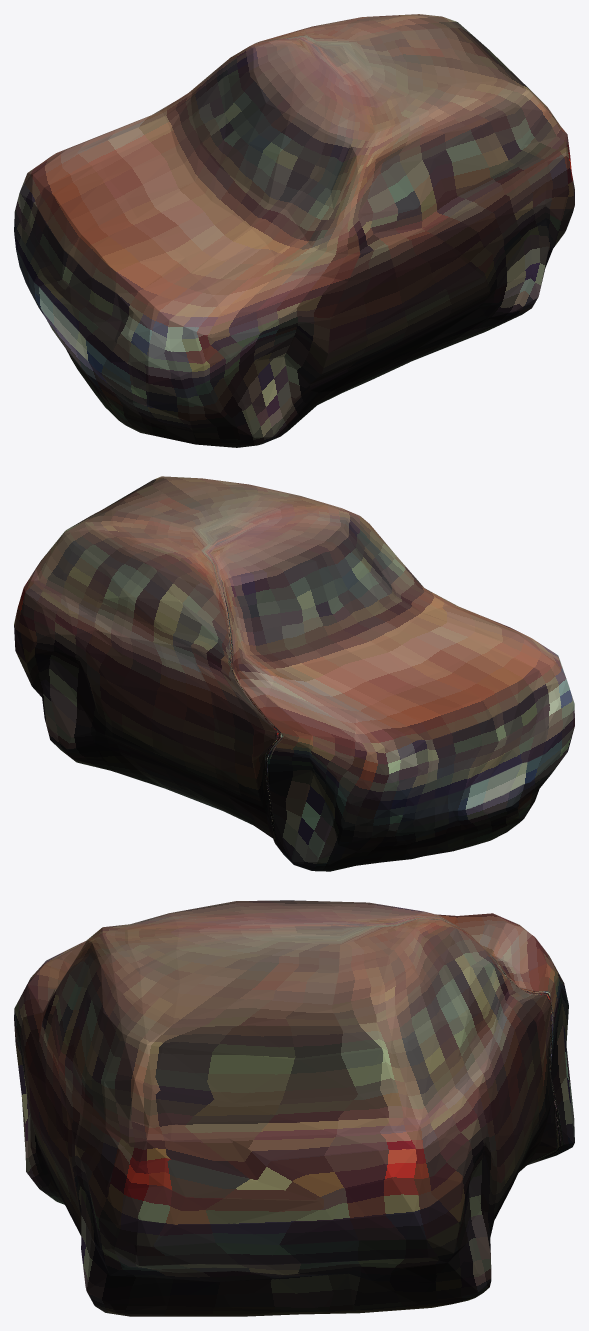
Rendered from video3_36.obj.
3 views of the same model, one above another, from view 1: azimuth 30°, elevation 25°; view 2: azimuth 150°, elevation 25°; view 3: azimuth 270°, elevation 25° (orthographic). The views are drawn at different scales.
Size of the model in its own units: 1 by 0.5749 by 0.7573.
Materials: 1 (1 with a texture image).
